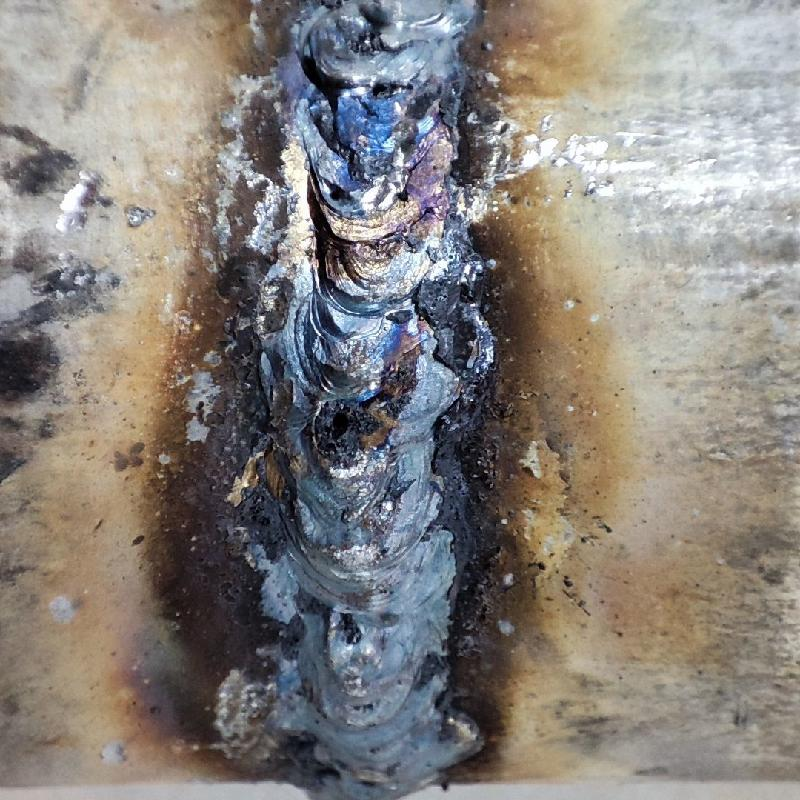Surface_pores: (318, 400, 378, 456), (360, 66, 403, 112), (385, 179, 428, 217), (321, 175, 357, 213)
